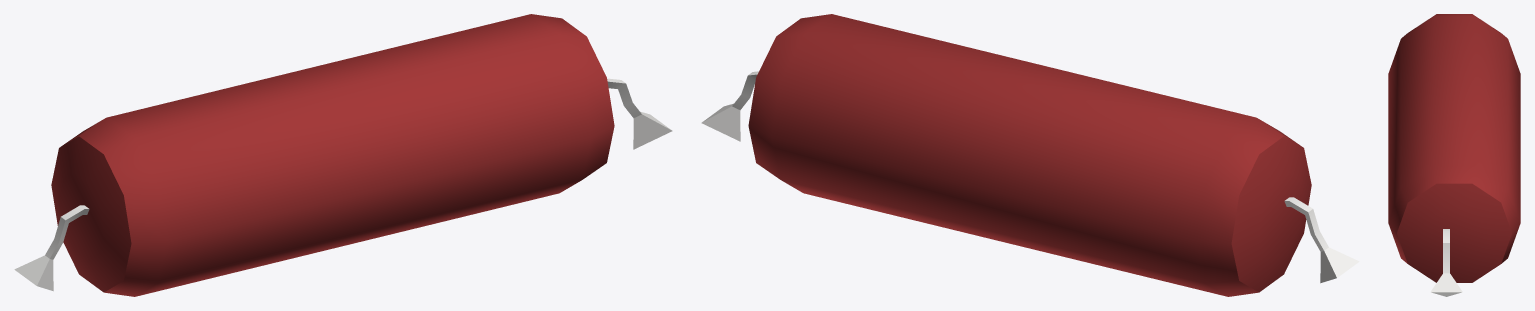
File: SM_pillow_01.fbx
The picture shows the model from 3 angles, left to right: view 1: azimuth 30°, elevation 25°; view 2: azimuth 150°, elevation 25°; view 3: azimuth 270°, elevation 25°; orthographic projection. The views are drawn at different scales.
Visible parts, largest first — view 1: Cylinder016; view 2: Cylinder016; view 3: Cylinder016.
Part boxes in pixels (x1,y1,x2,y2): Cylinder016: [14, 14, 672, 296]; Cylinder016: [701, 14, 1359, 296]; Cylinder016: [1388, 14, 1520, 296].
Size of the model in its own units: 45.12 by 11.3 by 10.75.
